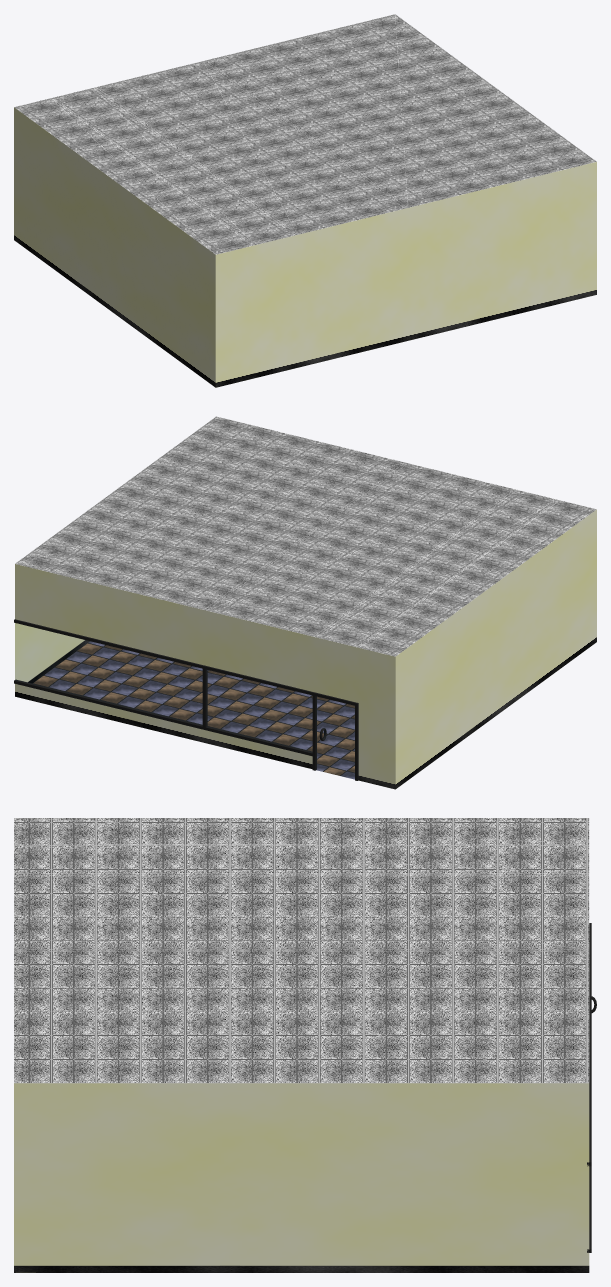
The model's file is ShopShell.fbx.
3 views of the same model, one above another, from view 1: azimuth 30°, elevation 25°; view 2: azimuth 150°, elevation 25°; view 3: azimuth 270°, elevation 25° (orthographic). The views are drawn at different scales.
Parts seen in each view (by area): view 1: Shop_Shell; view 2: Shop_Shell; view 3: Shop_Shell.
Boxes of the visible parts, x1,y1,x2,y2 form: Shop_Shell: (14,14,596,387); Shop_Shell: (14,416,596,789); Shop_Shell: (14,818,596,1272).
Size of the model in its own units: 12 by 4 by 11.15.
